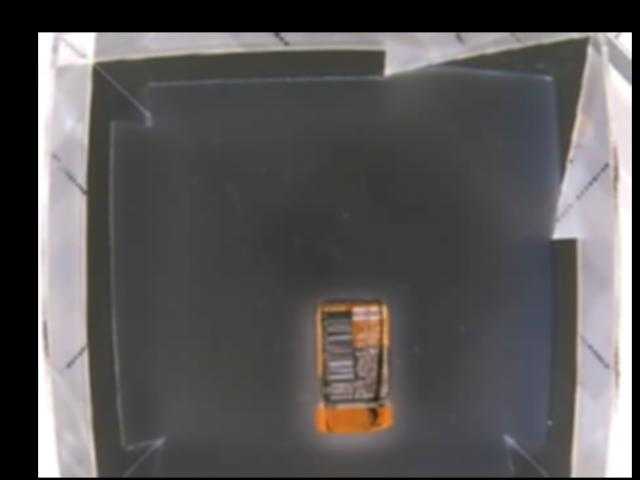Bottle: (311, 298, 394, 433)
